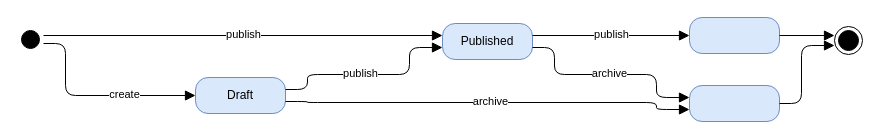
Some shapes in this 880 by 139 pixel diagram are drawn without their labels. Here are the shapes that lost their labels. From the top down, the centre of each, then its label:
At [734,35]: "Replaced".
At [734,103]: "Archived".
